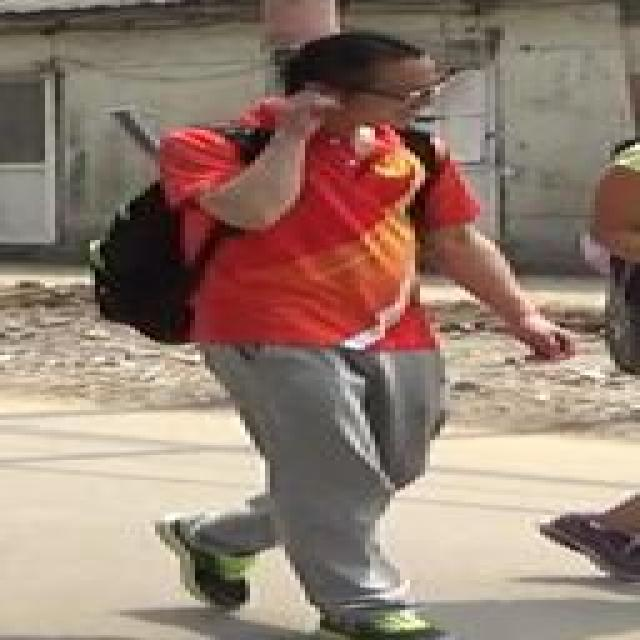adult: (141, 25, 499, 634)
